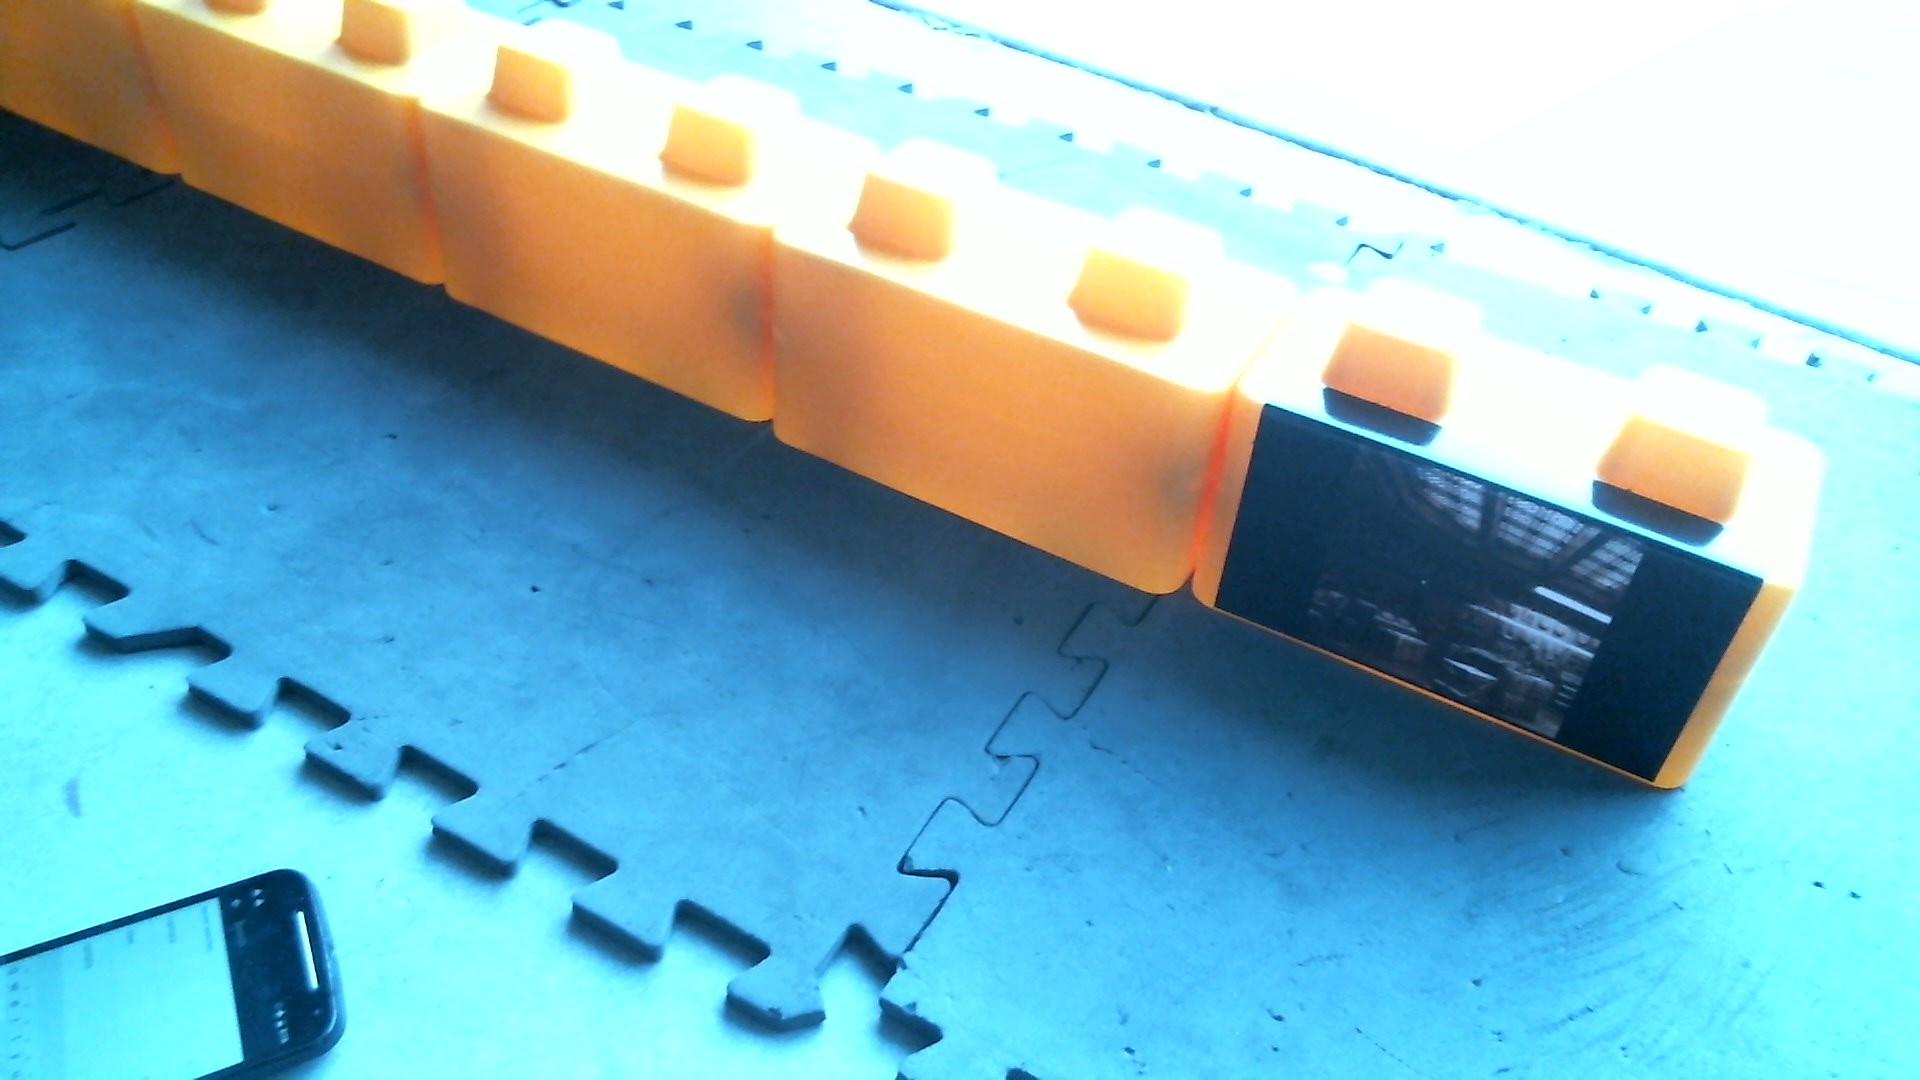right: (411, 22, 1822, 800)
